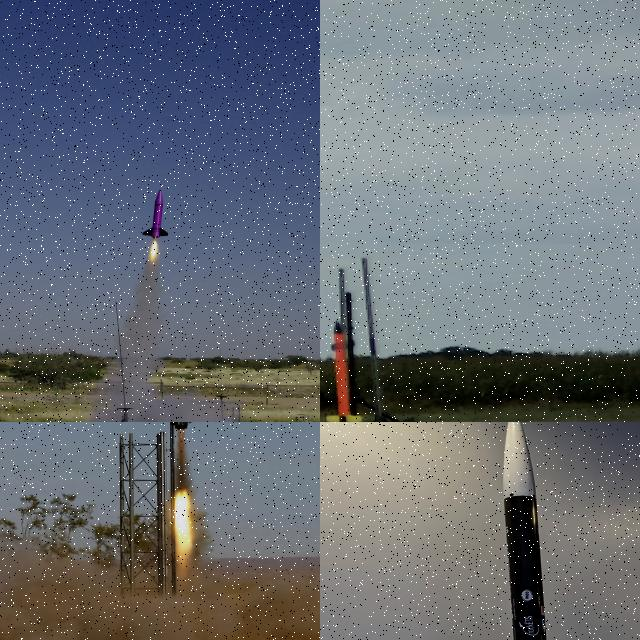Rocket: (503, 422, 547, 640), (325, 318, 365, 422), (142, 190, 169, 240)
